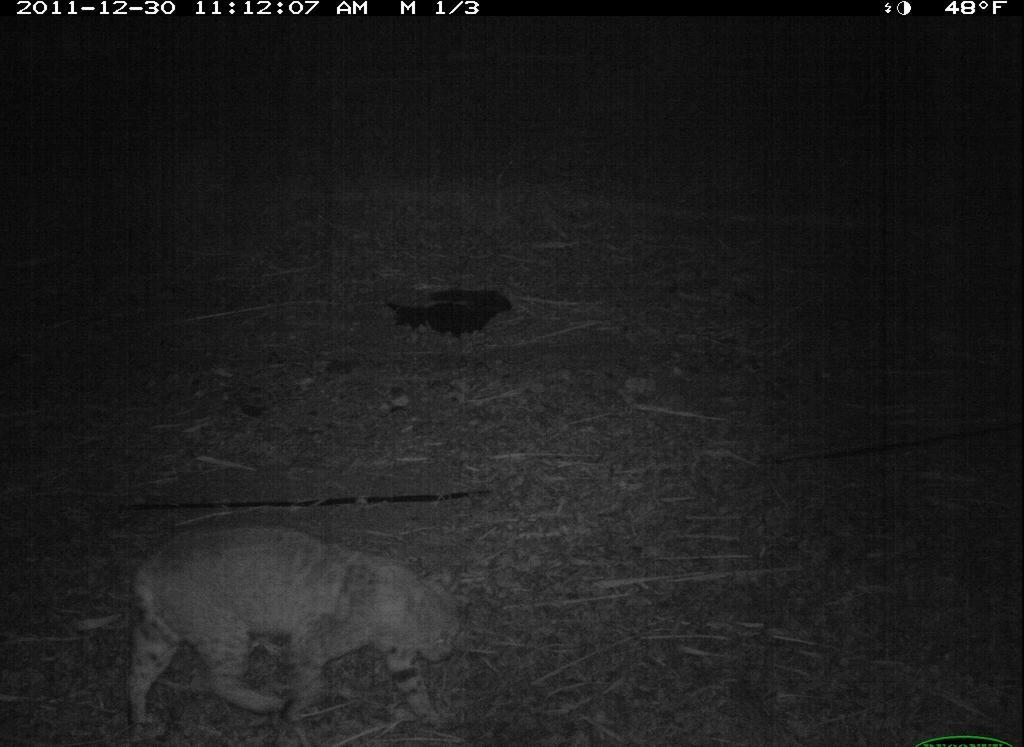bobcat: (121, 524, 495, 738)
